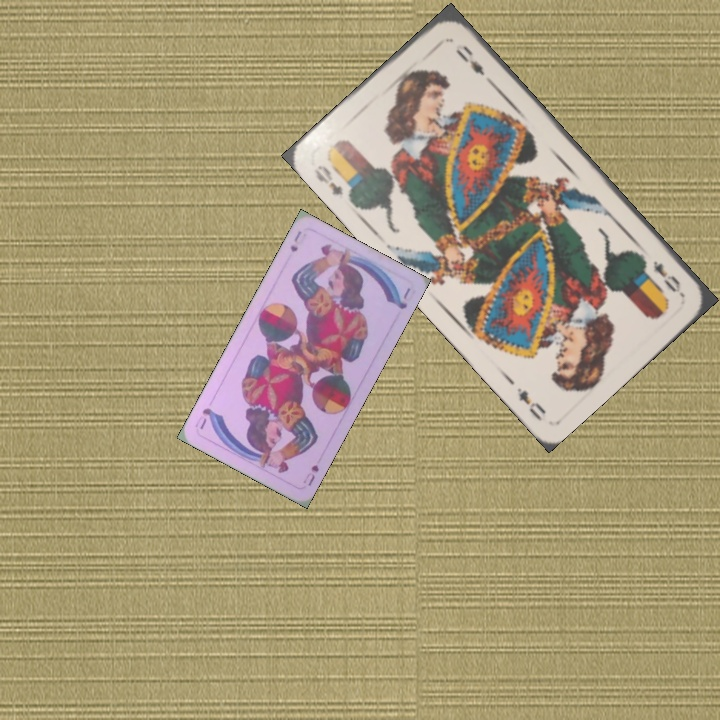EO: (648, 256, 686, 298), (309, 161, 347, 198)
SU: (299, 460, 321, 489), (286, 226, 305, 255)
